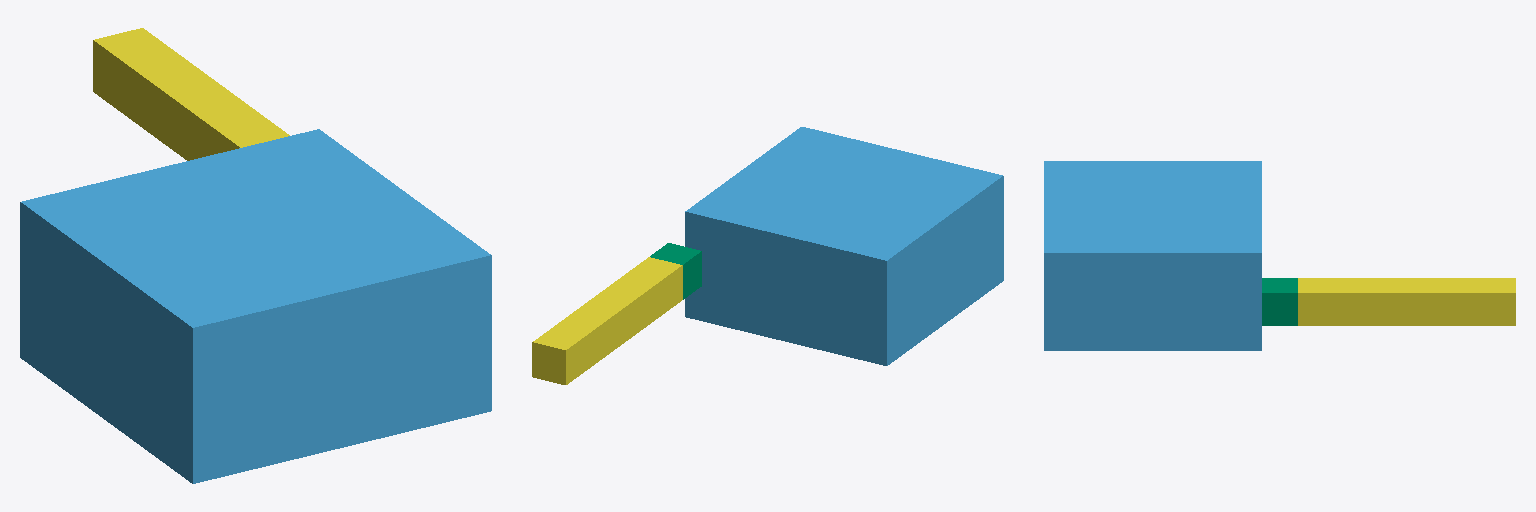
robot.urdf — prj4:
<?xml version="1.0"?>

<robot name="prj4">
    <gazebo>
        <plugin name="gazebo_ros_control" filename="libgazebo_ros_control.so">
	    <robotNamespace>prj4</robotNamespace>
<!-- 	    <legacyModeNS>true</legacyModeNS> for kinetic, but may be unnecessary -->
        </plugin>
    </gazebo>

    <link name="base_link"> </link>
    
<!-- ################################################################### -->

    <joint name="body_joint" type="fixed">
        <parent link="base_link"/> 
	<child link="body"/>
	<origin xyz= "0 0 0" rpy="0 0 0" />
    </joint>

    <link name="body">
        <visual>
	    <origin xyz="0 0 0" rpy="0 0 0"/>
	    <geometry> <box size="0.3 0.3 0.15"/> </geometry>
	</visual>
	<collision>
	    <origin xyz="0 0 0" rpy="0 0 0"/>
	    <geometry> <box size="0.3 0.3 0.15"/> </geometry>
	</collision>
	<inertial>
	    <origin xyz="0 0 0" rpy="0 0 0"/> <mass value="2"/>
	    <inertia ixx="1e-2" ixy="0" ixz="0" iyy="1e-2" iyz="0" izz="1e-2"/>
	</inertial>
    </link>

    <gazebo reference="body"> <material>Gazebo/Red</material> </gazebo>

<!-- ################################################################### -->

    <joint name="jointNN1" type="revolute">
        <parent link="body"/>
	<child link="linkNN1"/>
	<origin xyz= "0.15 0.15 0.0" rpy="0 0 0" />
	<axis xyz="0 0 1"/>
	<limit effort="30" lower="-2.617" upper="2.617" velocity="1.571"/>
    </joint>

    <link name="linkNN1">
        <visual>
	    <origin xyz="0 0.025 0" rpy="0 0 0"/>
	    <geometry> <box size="0.05 0.05 0.05"/> </geometry>
	</visual>
	<collision>
	    <origin xyz="0 0.025 0" rpy="0 0 0"/>
	    <geometry> <box size="0.05 0.05 0.05"/> </geometry>
	</collision>
	<inertial>
	    <origin xyz="0 0.025 0" rpy="0 0 0"/> <mass value="0.1"/>
	    <inertia ixx="1e-2" ixy="0" ixz="0" iyy="1e-2" iyz="0" izz="1e-2"/>
	</inertial>
    </link>

    <gazebo reference="linkNN1"> <material>Gazebo/Green</material> </gazebo>

<!-- ################################################################### -->

    <joint name="jointNN12" type="revolute">
        <parent link="linkNN1"/>
	<child link="linkNN12"/>
	<origin xyz= "0 0.05 0" rpy="0 0 0" />
	<axis xyz="1 0 0"/>
	<limit effort="30" lower="-2.617" upper="2.617" velocity="1.571"/>
    </joint>

    <link name="linkNN12">
        <visual>
	    <origin xyz="0 0.15 0" rpy="0 0 0"/>
	    <geometry> <box size="0.05 0.3 0.05"/> </geometry>
	</visual>
	<collision>
	    <origin xyz="0 0.15 0" rpy="0 0 0"/>
	    <geometry> <box size="0.05 0.3 0.05"/> </geometry>
	</collision>
	<inertial>
	    <origin xyz="0 0.15 0" rpy="0 0 0"/> <mass value="0.3"/>
	    <inertia ixx="1e-2" ixy="0" ixz="0" iyy="1e-2" iyz="0" izz="1e-2"/>
	</inertial>
    </link>

    <gazebo reference="linkNN12"> <material>Gazebo/Blue</material> </gazebo>

</robot>

--- Facts derived from the render (not from the file) ---
3 views of the same robot in one strip: view 1: azimuth 30°, elevation 25°; view 2: azimuth 150°, elevation 25°; view 3: azimuth 270°, elevation 25° (orthographic).
Model prj4 with 4 links and 3 joints (2 revolute, 1 fixed), rooted at base_link, posed every joint at zero.
Links seen in each view (by area): view 1: body, linkNN12; view 2: body, linkNN12, linkNN1; view 3: body, linkNN12, linkNN1.
Boxes of the visible links, left/top/right/bottom form: body: left=20, top=129, right=491, bottom=483; linkNN12: left=93, top=28, right=289, bottom=160; body: left=685, top=127, right=1003, bottom=365; linkNN12: left=532, top=257, right=682, bottom=384; linkNN1: left=650, top=243, right=701, bottom=299; body: left=1044, top=161, right=1261, bottom=350; linkNN12: left=1298, top=278, right=1515, bottom=325; linkNN1: left=1262, top=278, right=1297, bottom=325.
Bounding box of the posed robot: 0.325 × 0.65 × 0.15 m (x, y, z).
Geometry: primitives only (box / cylinder / sphere), no mesh files.
